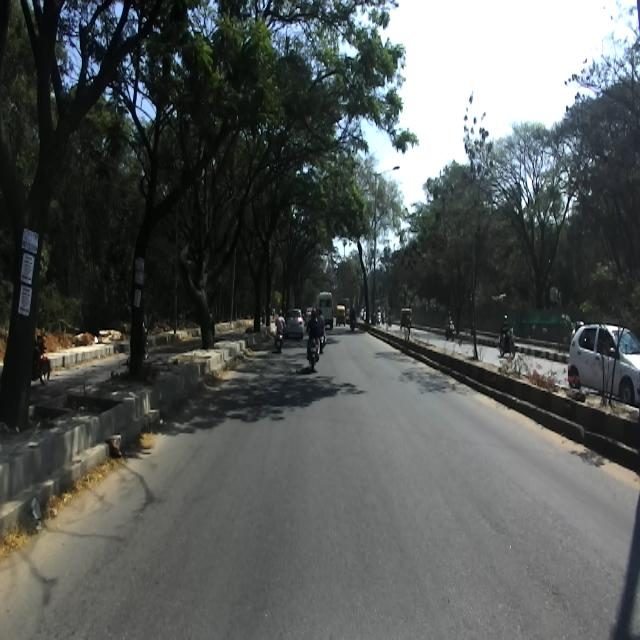footpath on: (0, 318, 271, 549)
tree ahead at: (0, 6, 213, 382)
